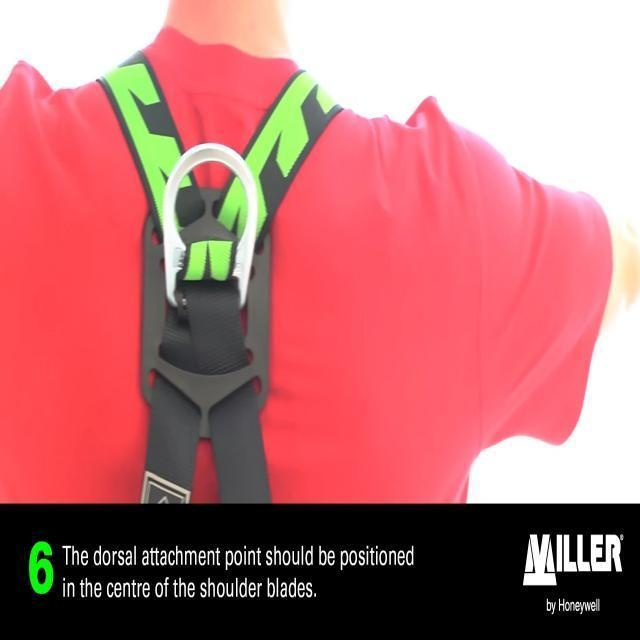Arnes_seguridad: (87, 35, 343, 508)
